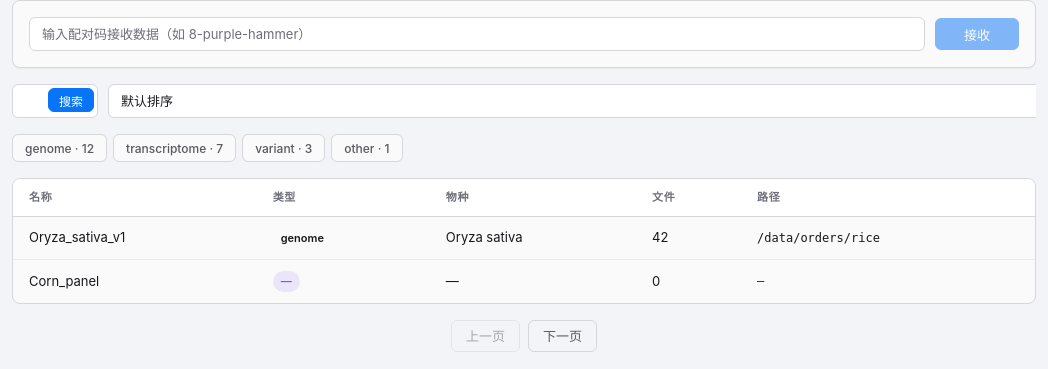
Scenario: DatasetsPage › back from third page loads with the first stacked cursor
Expected: the text "Oryza_sativa_v1" is shown, 13,216 -> 257,260
Step 1. Click the button "下一页" → (562, 336), box 528,320 -> 597,352
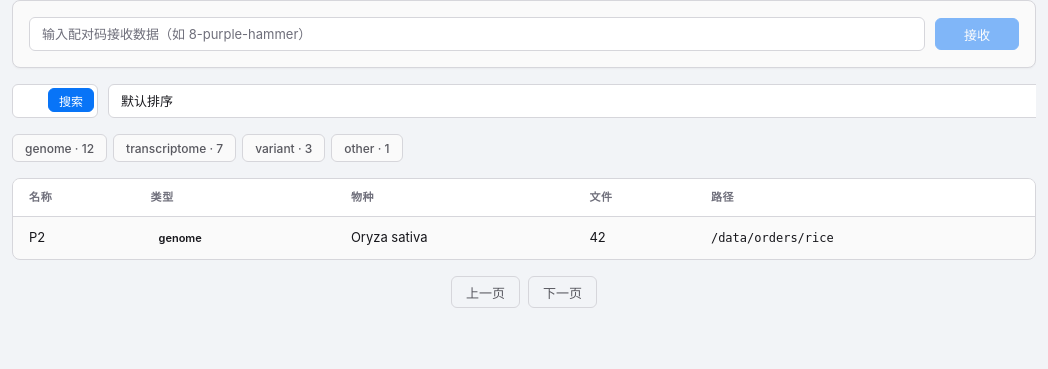
Expected: the text "P2" is shown, 13,216 -> 134,259
Step 2. Click the button "下一页" → (562, 292), box 528,276 -> 597,308
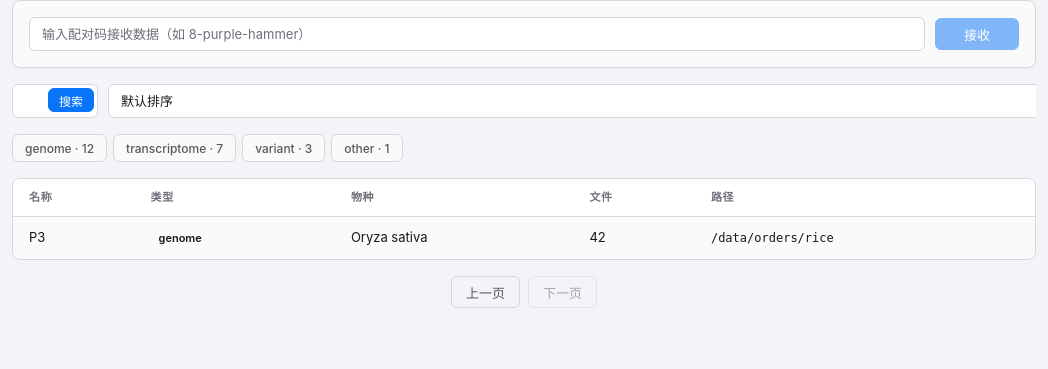
Expected: the text "P3" is shown, 13,216 -> 134,259
Step 3. Click the button "上一页" → (486, 292), box 451,276 -> 520,308
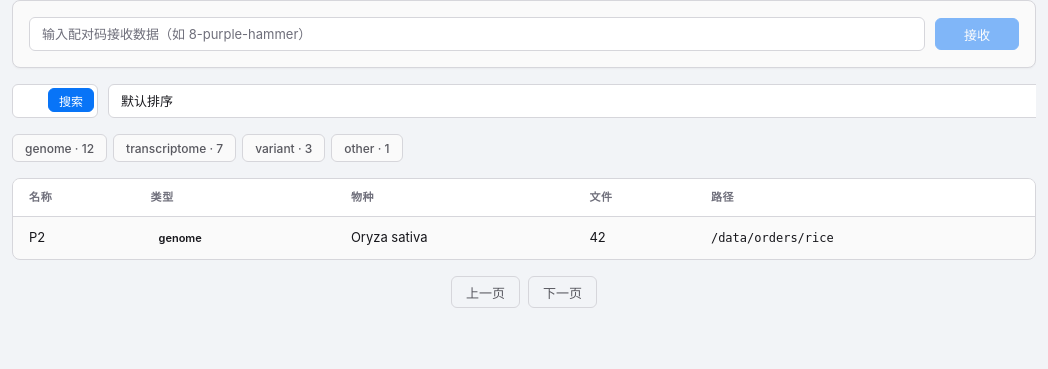
Expected: the text "P2" is shown, 13,216 -> 134,259
